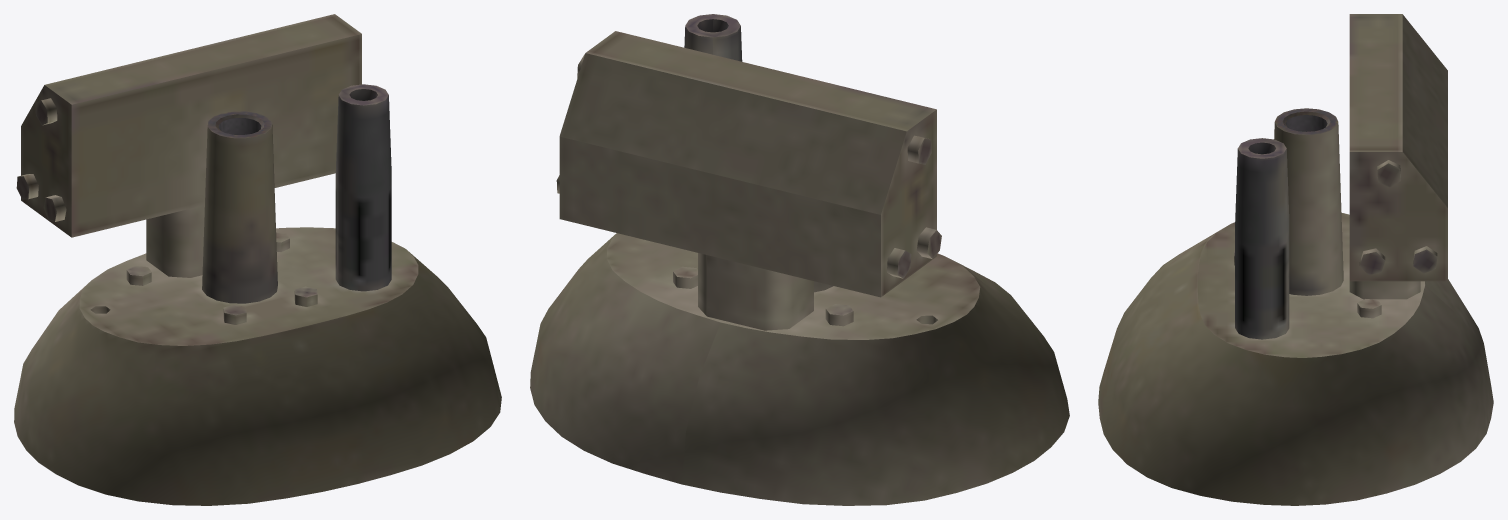
File: Gun_03.glb
3 renders of one model, left to right at view 1: azimuth 30°, elevation 25°; view 2: azimuth 150°, elevation 25°; view 3: azimuth 270°, elevation 25°, orthographic. The views are drawn at different scales.
Parts seen in each view (by area): view 1: set_0_group_0; view 2: set_0_group_0; view 3: set_0_group_0.
Part boxes in pixels (box(x1,y1,x2,y2)): set_0_group_0: box(14, 14, 501, 505); set_0_group_0: box(530, 14, 1069, 505); set_0_group_0: box(1098, 14, 1493, 505).
Bounding box in the file's own units: 0.4319 × 0.306 × 0.3493.
Materials: 1 (1 with a texture image).
